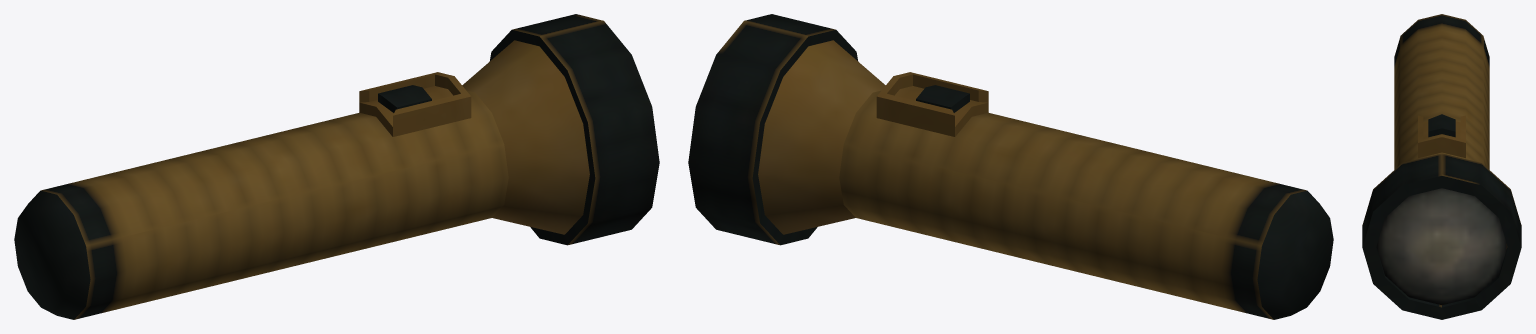
The model's file is flashlight_mp_1.obj.
The picture shows the model from 3 angles, left to right: view 1: azimuth 30°, elevation 25°; view 2: azimuth 150°, elevation 25°; view 3: azimuth 270°, elevation 25°; orthographic projection. The views are drawn at different scales.
Visible parts, largest first — view 1: flashlight_mp_1; view 2: flashlight_mp_1; view 3: flashlight_mp_1.
Part boxes in pixels (x1,y1,x2,y2): flashlight_mp_1: (14,14,659,319); flashlight_mp_1: (688,14,1333,319); flashlight_mp_1: (1362,14,1521,319).
Bounding box in the file's own units: 0.2327 × 0.078 × 0.078.
